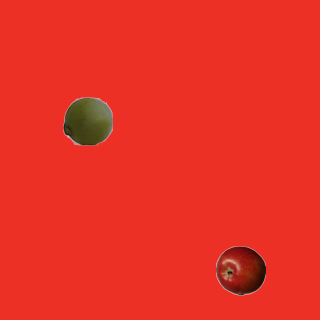Apple Braeburn: (215, 245, 265, 295)
Grape White 4: (62, 95, 112, 145)
